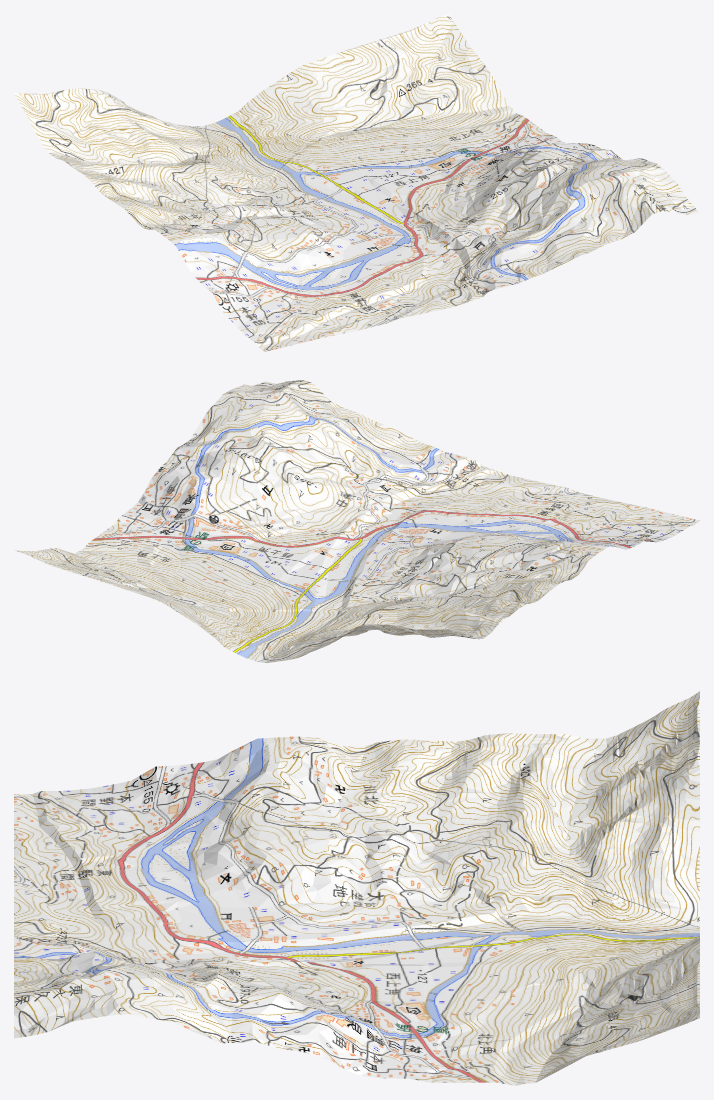
Rendered from dem-low.glb.
3 renders of one model, top to bottom at view 1: azimuth 30°, elevation 25°; view 2: azimuth 150°, elevation 25°; view 3: azimuth 270°, elevation 25°, orthographic. The views are drawn at different scales.
Visible parts, largest first — view 1: dem; view 2: dem; view 3: dem.
Part boxes in pixels (box(x1,y1,x2,y2)): dem: box(14, 14, 699, 351); dem: box(15, 380, 699, 662); dem: box(14, 691, 699, 1085).
Bounding box in the file's own units: 149 × 26.31 × 149.
1 material, 1 textured.
